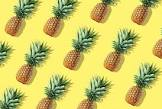Pineapple: (15, 40, 54, 85), (62, 27, 101, 70), (122, 63, 160, 105), (104, 26, 137, 72), (37, 74, 74, 109), (42, 1, 77, 36), (78, 74, 113, 109), (4, 1, 37, 37)
